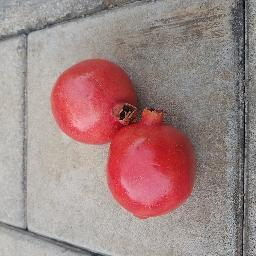Good_pomegranate: (117, 103, 200, 219), (41, 60, 139, 143)
